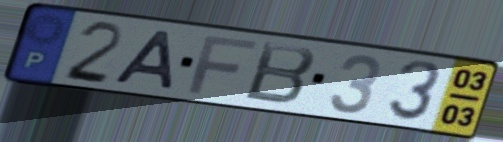2: (62, 19, 126, 86)
3: (385, 58, 442, 123), (329, 52, 383, 115)
A: (110, 28, 177, 93)
B: (241, 40, 320, 108)
F: (185, 34, 260, 97)
